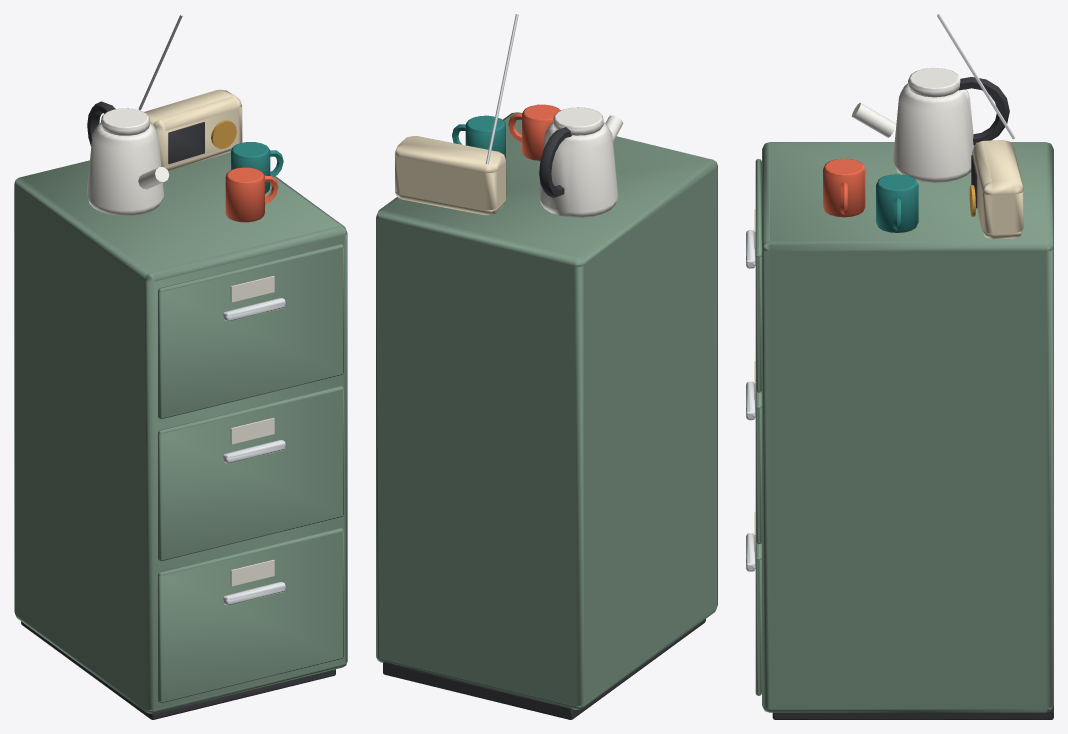
Rendered from filing_cabinet.glb.
The picture shows the model from 3 angles, left to right: view 1: azimuth 30°, elevation 25°; view 2: azimuth 150°, elevation 25°; view 3: azimuth 270°, elevation 25°; orthographic projection. The views are drawn at different scales.
Parts seen in each view (by area): view 1: FilingCabinetBody; view 2: FilingCabinetBody; view 3: FilingCabinetBody.
Part boxes in pixels (box(x1,y1,x2,y2)): FilingCabinetBody: box(14, 14, 347, 719); FilingCabinetBody: box(376, 14, 717, 719); FilingCabinetBody: box(746, 14, 1053, 719).
Size of the model in its own units: 0.47 by 1.38 by 0.58.
